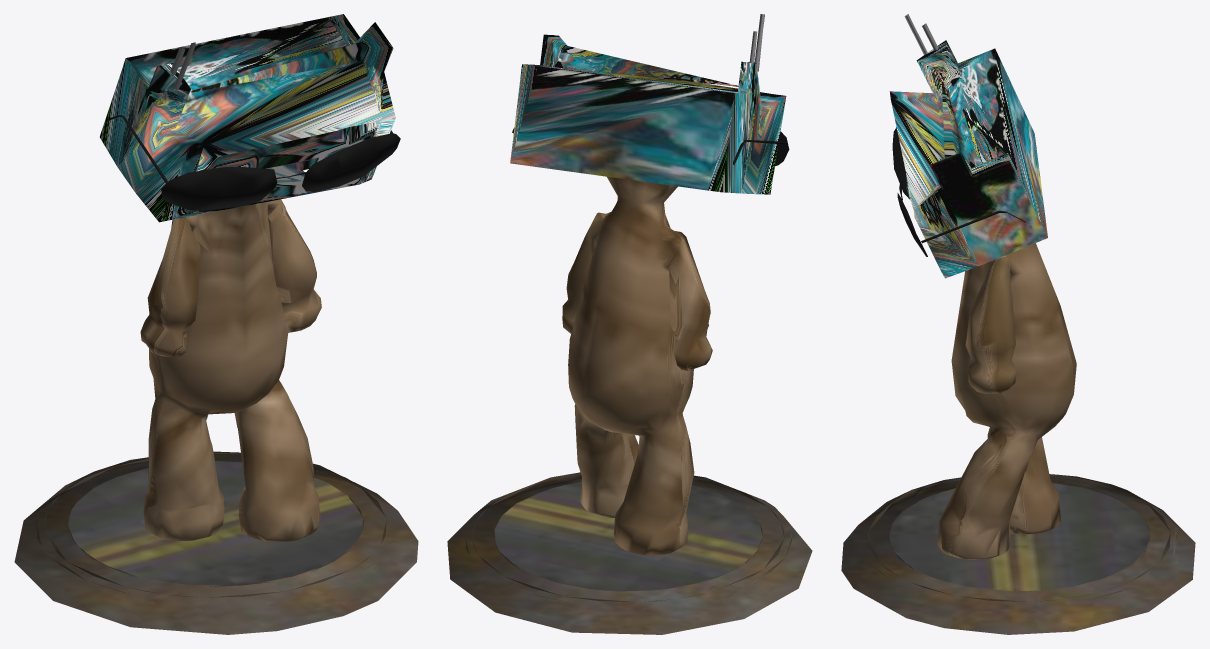
The picture shows the model from 3 angles, left to right: view 1: azimuth 30°, elevation 25°; view 2: azimuth 150°, elevation 25°; view 3: azimuth 270°, elevation 25°; orthographic projection. The views are drawn at different scales.
Bounding box in the file's own units: 1.44 × 2.25 × 1.42.
Materials: 6 (4 with a texture image).
